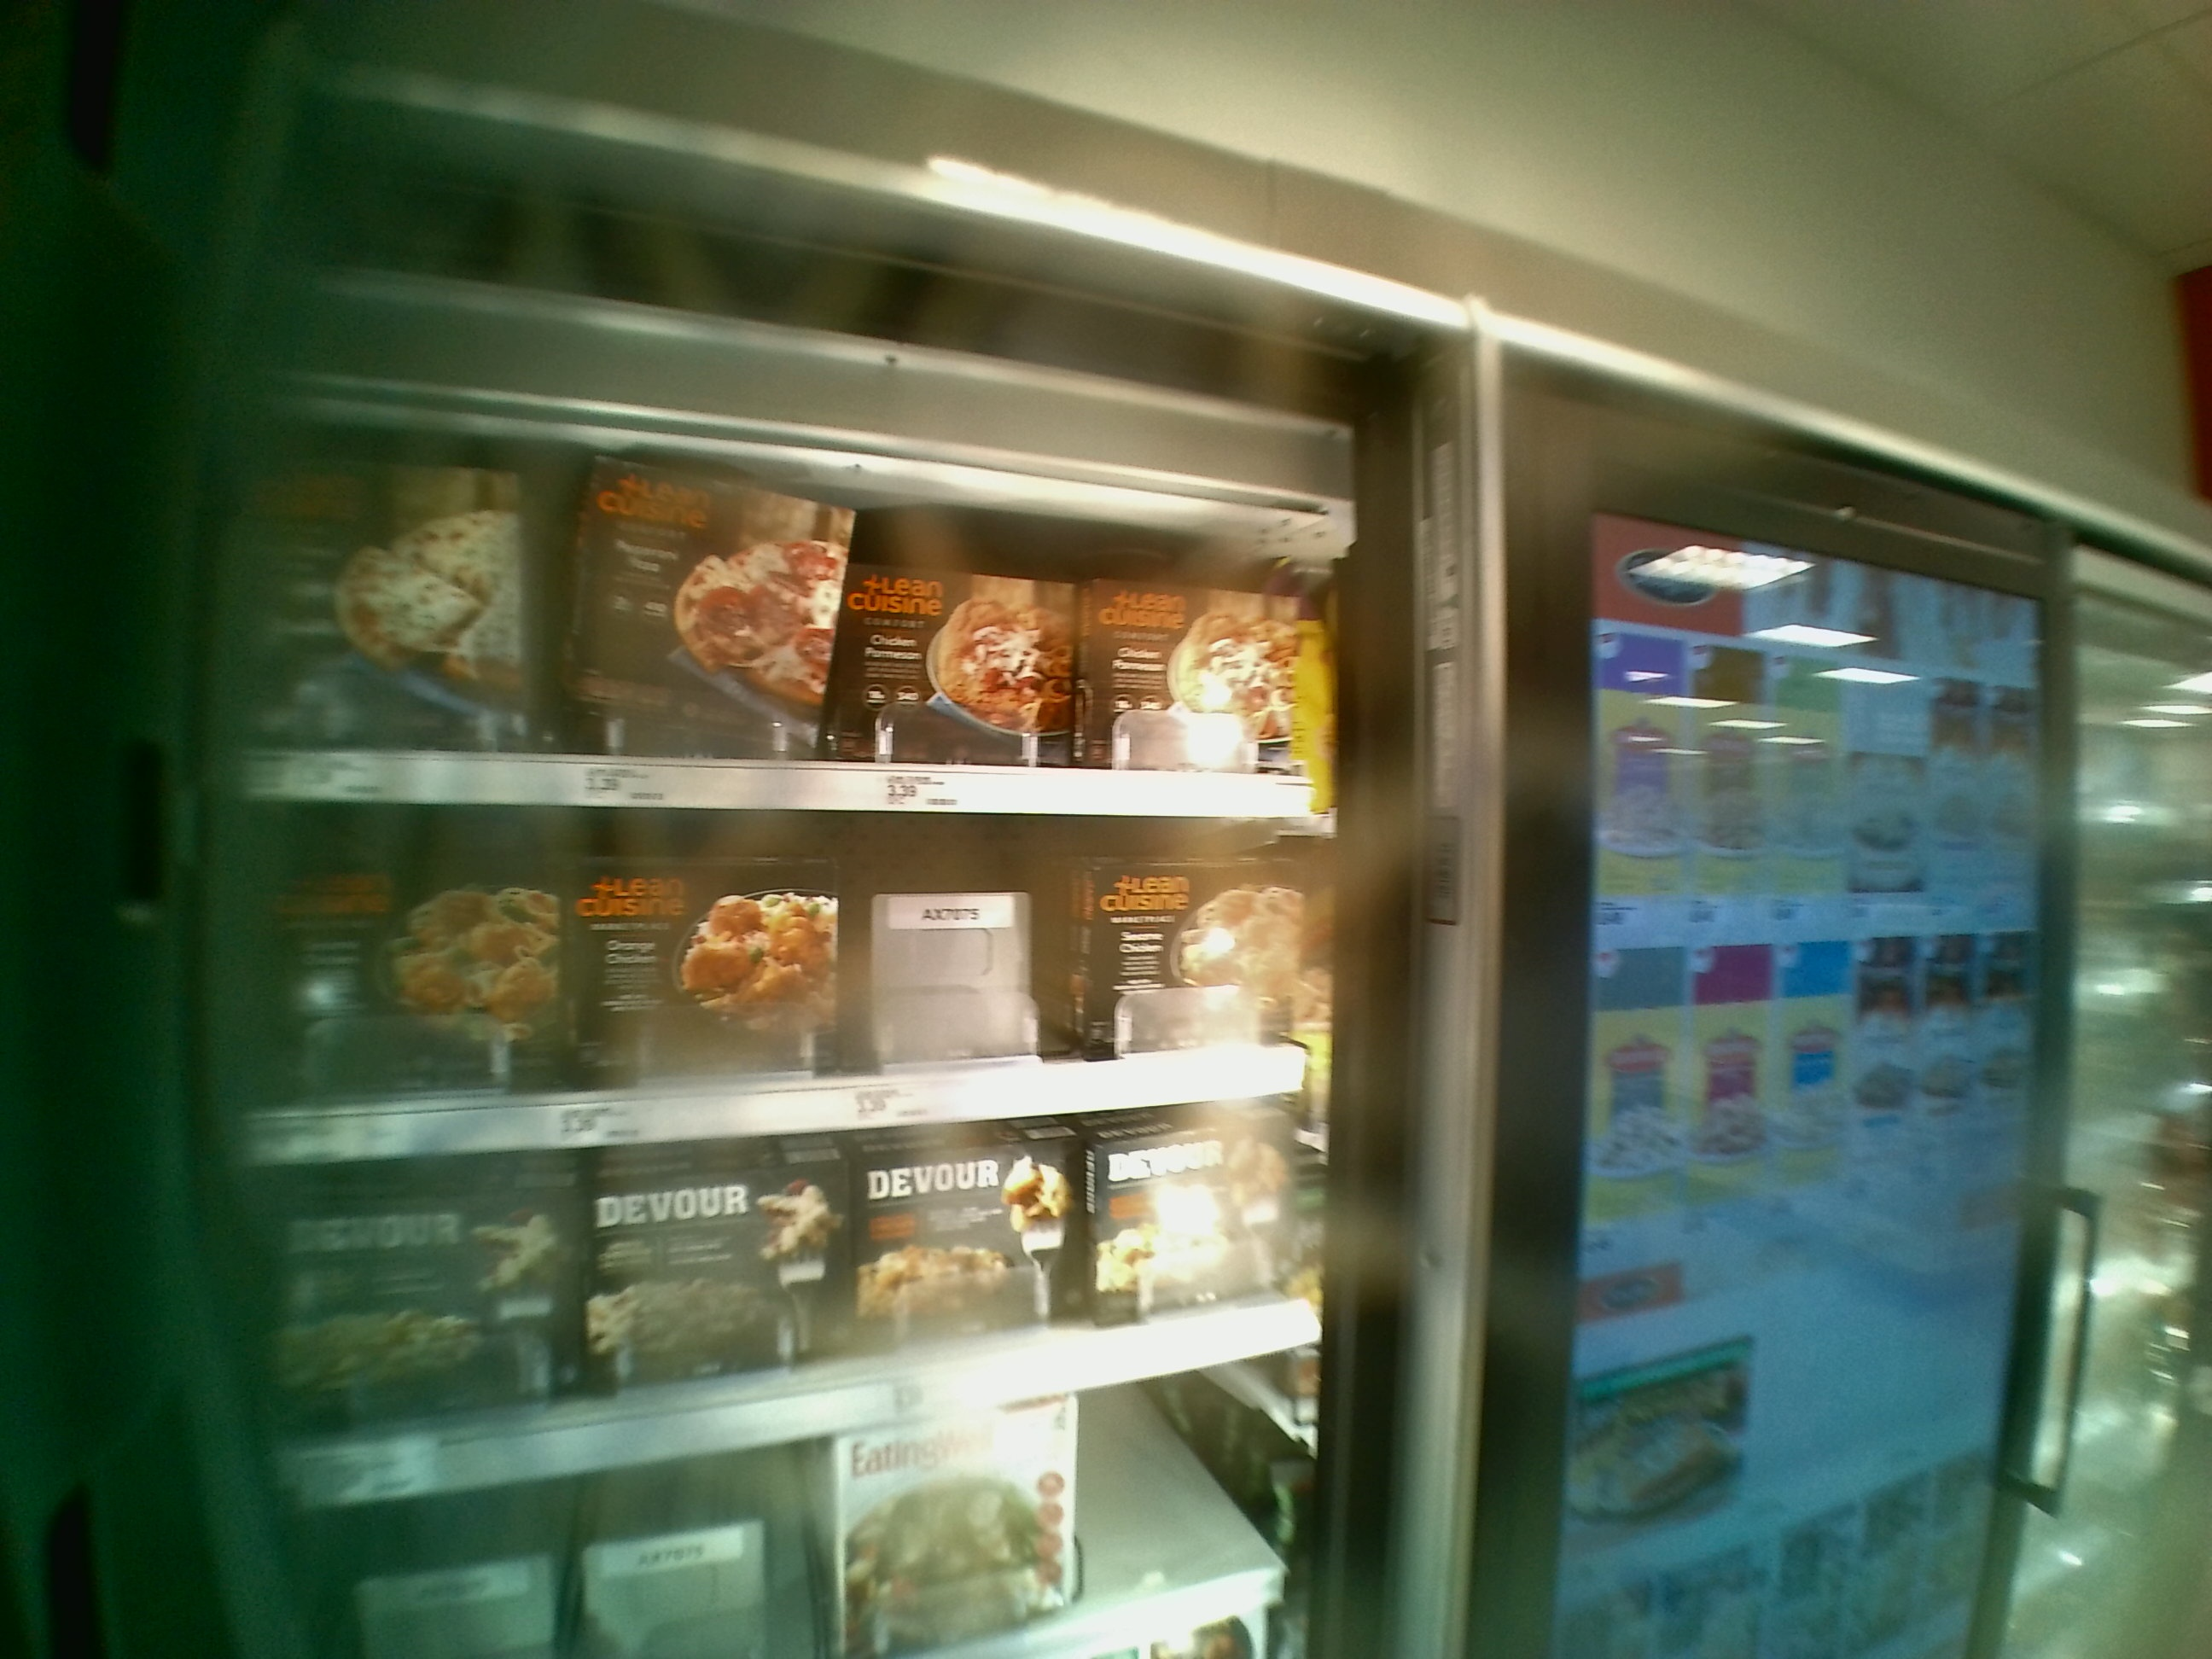shelf: (249, 387, 1334, 814), (216, 798, 1338, 1168)
